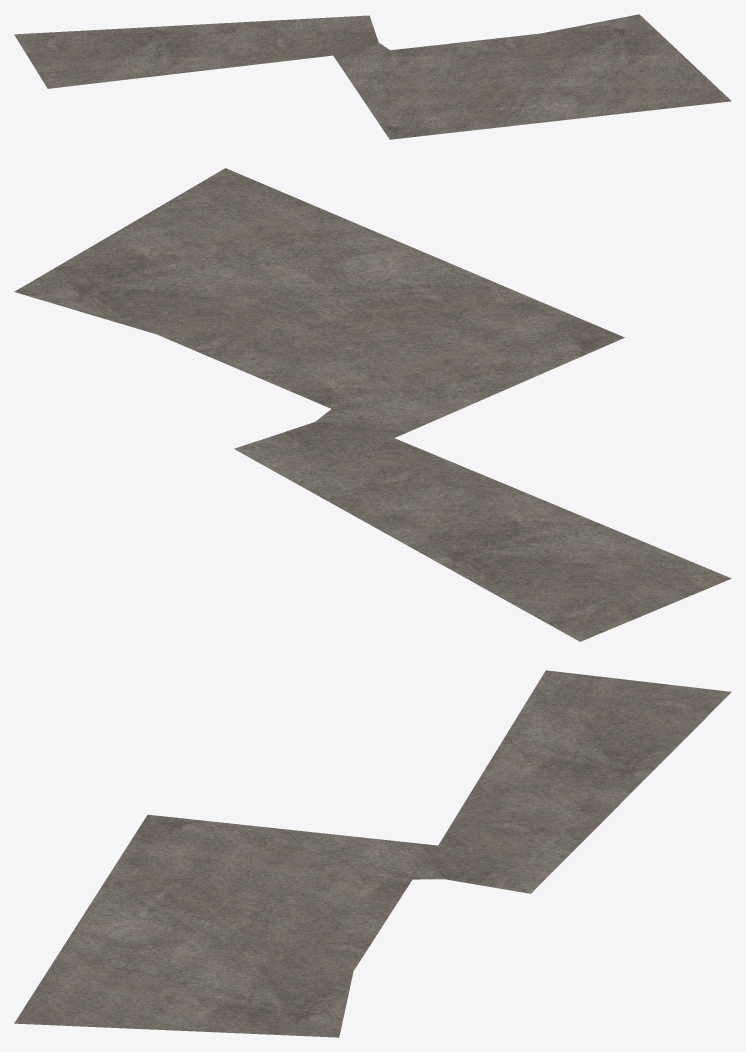
File: road_p10_09.fbx
3 renders of one model, top to bottom at view 1: azimuth 30°, elevation 25°; view 2: azimuth 150°, elevation 25°; view 3: azimuth 270°, elevation 25°, orthographic. The views are drawn at different scales.
Parts seen in each view (by area): view 1: road_p10_09; view 2: road_p10_09; view 3: road_p10_09.
Part boxes in pixels (box(x1,y1,x2,y2)): road_p10_09: box(14, 14, 731, 139); road_p10_09: box(14, 168, 731, 641); road_p10_09: box(14, 670, 731, 1037).
Bounding box in the file's own units: 26846 × 1.36e-12 × 22177.
